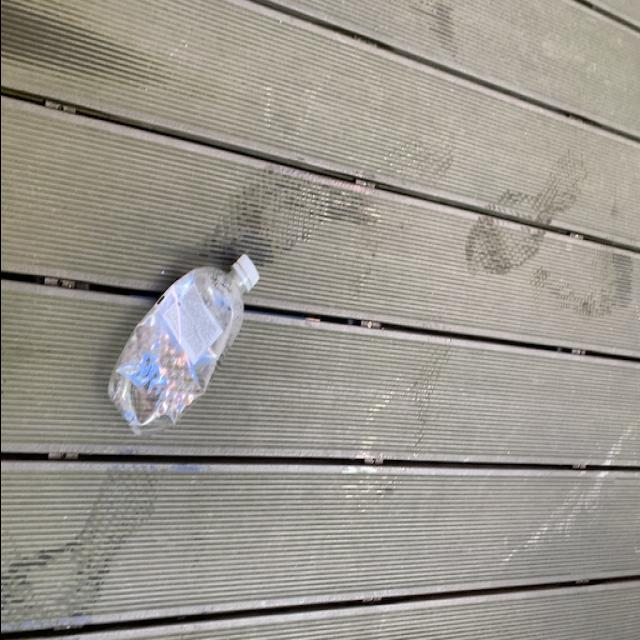litter: (103, 252, 261, 436)
